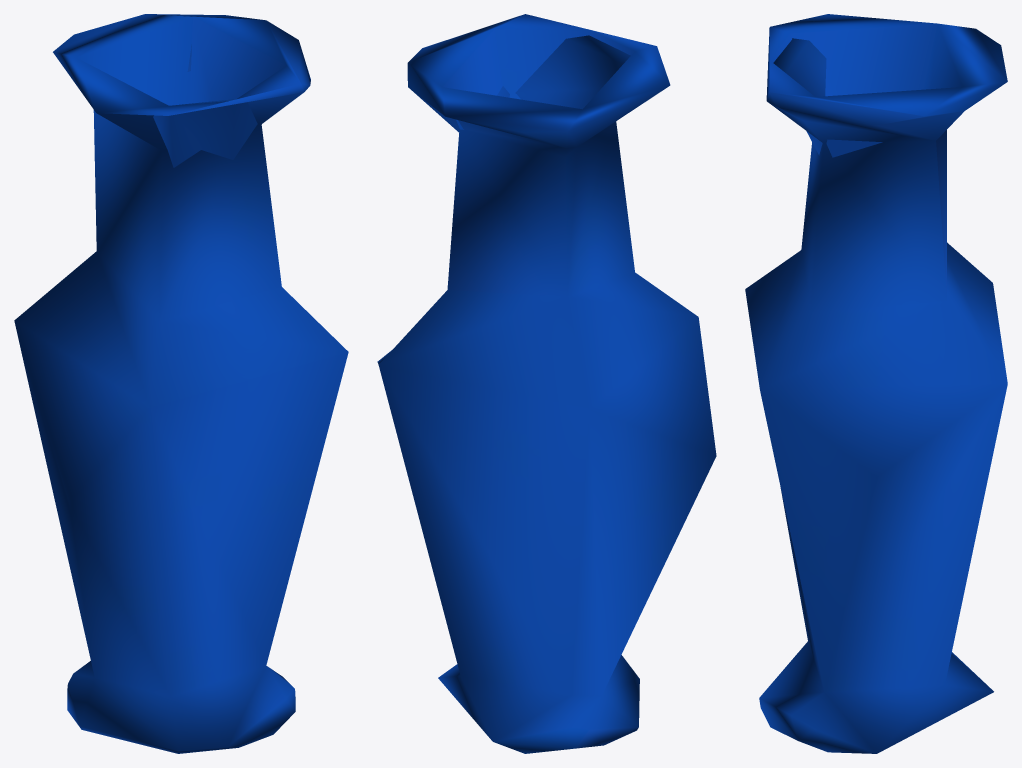
Rendered from model.progressive.glb.
The picture shows the model from 3 angles, left to right: view 1: azimuth 30°, elevation 25°; view 2: azimuth 150°, elevation 25°; view 3: azimuth 270°, elevation 25°; orthographic projection.
Visible parts, largest first — view 1: material; view 2: material; view 3: material.
Boxes of the visible parts, box(x1,y1,x2,y2) form: material: box(14, 14, 348, 753); material: box(377, 14, 716, 753); material: box(745, 14, 1007, 753).
Size of the model in its own units: 0.947 by 1.89 by 0.6932.
1 material, 1 textured.
